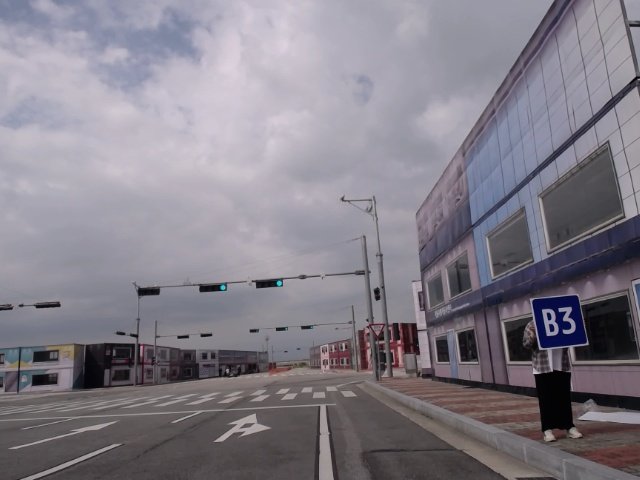delivery_b3: (527, 294, 592, 349)
straight_green_4: (254, 276, 284, 289), (197, 282, 228, 293), (275, 326, 289, 333), (299, 324, 315, 330)
